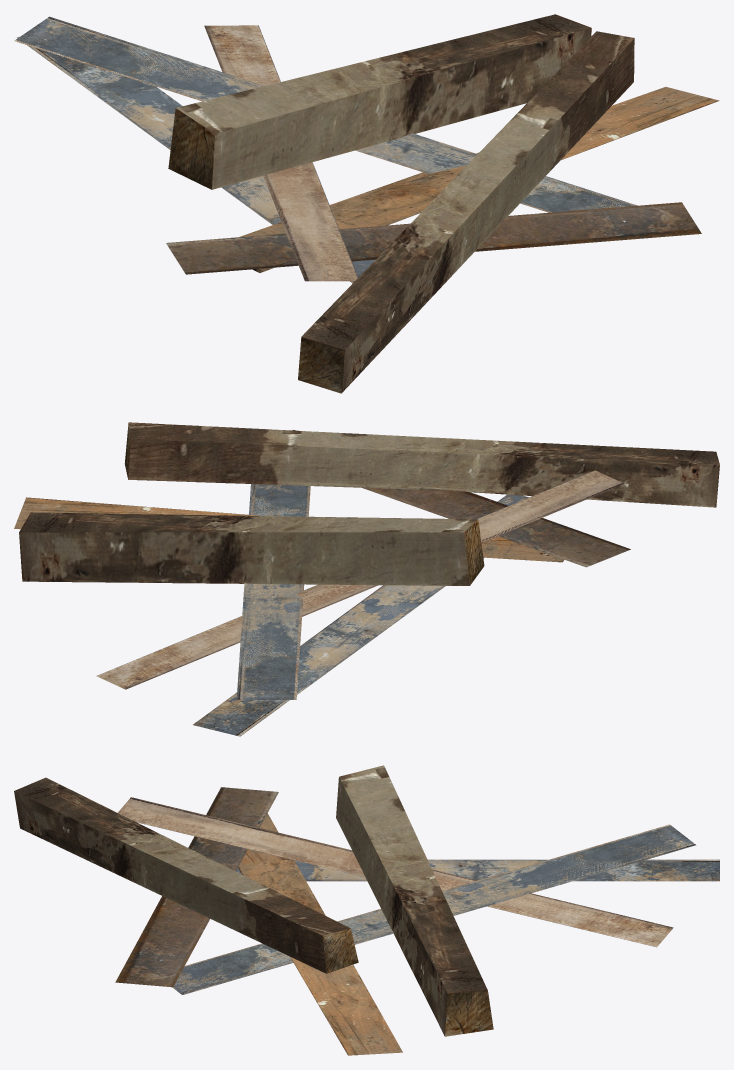
Rendered from Debris2_8_LOD2.fbx.
3 renders of one model, top to bottom at view 1: azimuth 30°, elevation 25°; view 2: azimuth 150°, elevation 25°; view 3: azimuth 270°, elevation 25°, orthographic. The views are drawn at different scales.
Parts seen in each view (by area): view 1: polySurface319; view 2: polySurface319; view 3: polySurface319.
Part boxes in pixels (left/top/right/bottom): polySurface319: left=14, top=14, right=719, bottom=393; polySurface319: left=14, top=422, right=719, bottom=736; polySurface319: left=14, top=765, right=719, bottom=1055.
Size of the model in its own units: 2.52 by 0.4543 by 3.1.
